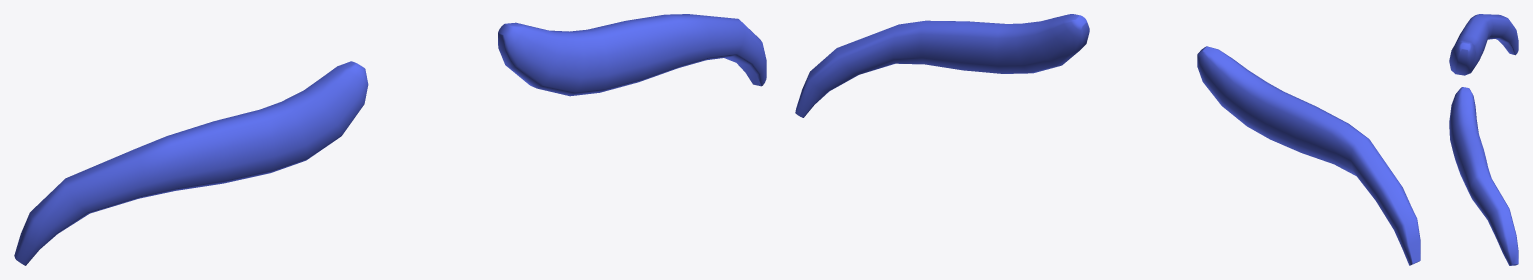
File: Eyebrows_22_03.fbx
The picture shows the model from 3 angles, left to right: view 1: azimuth 30°, elevation 25°; view 2: azimuth 150°, elevation 25°; view 3: azimuth 270°, elevation 25°; orthographic projection. The views are drawn at different scales.
Parts seen in each view (by area): view 1: Eyebrows_22_03; view 2: Eyebrows_22_03; view 3: Eyebrows_22_03.
Boxes of the visible parts, x1,y1,x2,y2 form: Eyebrows_22_03: [14, 14, 766, 265]; Eyebrows_22_03: [795, 14, 1420, 265]; Eyebrows_22_03: [1449, 14, 1518, 265].
Bounding box in the file's own units: 18.69 × 3.84 × 2.54.
